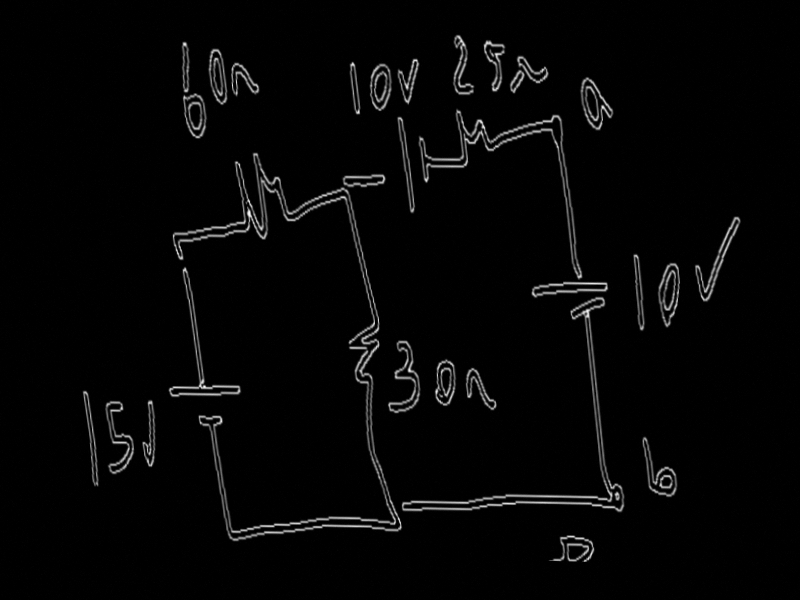0: (654, 260, 686, 332), (204, 45, 232, 107), (365, 62, 397, 116), (428, 356, 461, 407)
1: (76, 388, 105, 490), (630, 252, 648, 336), (346, 58, 363, 117)
2: (447, 33, 478, 98)
3: (380, 337, 425, 419)
5: (97, 395, 138, 476), (481, 37, 510, 89)
6: (172, 36, 211, 139)
V: (689, 214, 750, 304), (134, 399, 164, 472), (395, 55, 425, 104)
